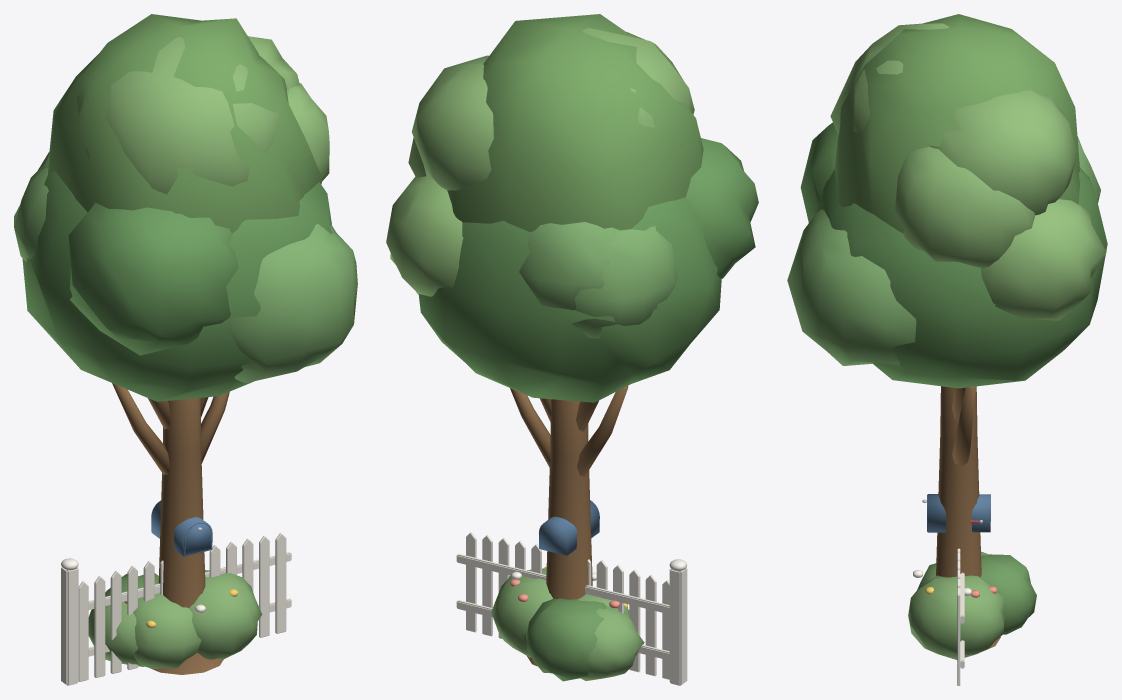
The model's file is props.glb.
3 renders of one model, left to right at view 1: azimuth 30°, elevation 25°; view 2: azimuth 150°, elevation 25°; view 3: azimuth 270°, elevation 25°, orthographic. The views are drawn at different scales.
Parts seen in each view (by area): view 1: canopy, canopy.001, fence, bush, trunk.001, trunk, body, door; view 2: canopy.001, canopy, bush, fence, trunk.001, trunk, body; view 3: canopy.001, canopy, bush, trunk.001, body, trunk, fence.
Boxes of the visible parts, x1=… form: canopy: x1=14, y1=152, x2=357, y2=401; canopy.001: x1=48, y1=14, x2=329, y2=233; fence: x1=61, y1=533, x2=291, y2=685; bush: x1=88, y1=567, x2=262, y2=668; trunk.001: x1=148, y1=397, x2=208, y2=607; trunk: x1=112, y1=383, x2=229, y2=674; body: x1=151, y1=500, x2=212, y2=556; door: x1=184, y1=522, x2=211, y2=555; canopy.001: x1=386, y1=14, x2=703, y2=296; canopy: x1=418, y1=138, x2=758, y2=402; bush: x1=491, y1=566, x2=644, y2=681; fence: x1=456, y1=532, x2=687, y2=685; trunk.001: x1=540, y1=398, x2=598, y2=599; trunk: x1=510, y1=385, x2=628, y2=666; body: x1=539, y1=500, x2=599, y2=555; canopy.001: x1=830, y1=14, x2=1106, y2=320; canopy: x1=787, y1=122, x2=1107, y2=388; bush: x1=908, y1=551, x2=1036, y2=659; trunk.001: x1=936, y1=386, x2=981, y2=577; body: x1=927, y1=494, x2=990, y2=532; trunk: x1=952, y1=386, x2=1000, y2=651; fence: x1=957, y1=548, x2=964, y2=685.
Size of the model in its own units: 2.62 by 5.48 by 2.58.
